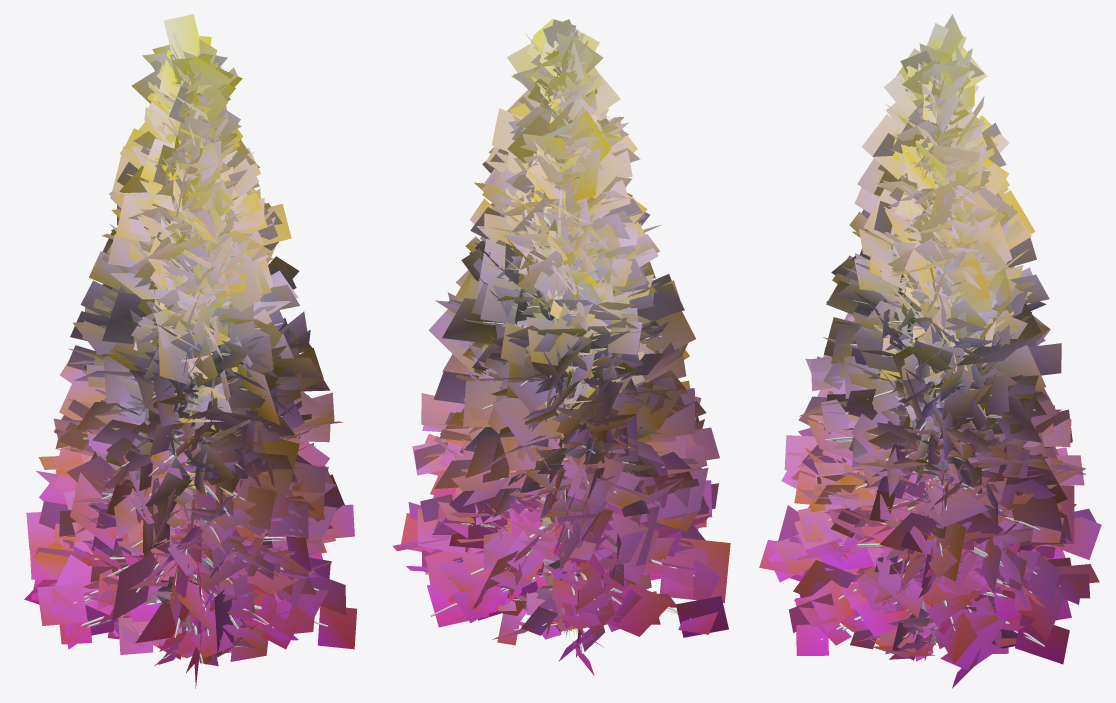
The model's file is real_conifers.glb.
The picture shows the model from 3 angles, left to right: view 1: azimuth 30°, elevation 25°; view 2: azimuth 150°, elevation 25°; view 3: azimuth 270°, elevation 25°; orthographic projection.
Visible parts, largest first — view 1: RealSpruce_A_Leaves, RealSpruce_A_FarLeaves, RealFir_Leaves, RealFir_FarLeaves, RealSpruce_B_FarLeaves, RealSpruce_B_Leaves, RealPineYoung_FarLeaves, RealPineYoung_Leaves, RealSpruce_A_Bark; view 2: RealSpruce_A_FarLeaves, RealSpruce_A_Leaves, RealFir_Leaves, RealFir_FarLeaves, RealSpruce_B_Leaves, RealSpruce_B_FarLeaves, RealPineYoung_Leaves, RealPineYoung_FarLeaves, RealSpruce_A_Bark; view 3: RealSpruce_A_Leaves, RealSpruce_A_FarLeaves, RealFir_Leaves, RealFir_FarLeaves, RealSpruce_B_Leaves, RealSpruce_B_FarLeaves, RealPineYoung_Leaves, RealPineYoung_FarLeaves, RealSpruce_A_Bark.
Boxes of the visible parts, x1,y1,x2,y2 form: RealSpruce_A_Leaves: [24, 45, 356, 672]; RealSpruce_A_FarLeaves: [30, 14, 344, 688]; RealFir_Leaves: [39, 138, 329, 597]; RealFir_FarLeaves: [54, 137, 333, 579]; RealSpruce_B_FarLeaves: [88, 222, 323, 643]; RealSpruce_B_Leaves: [49, 220, 330, 651]; RealPineYoung_FarLeaves: [118, 473, 268, 666]; RealPineYoung_Leaves: [107, 463, 255, 666]; RealSpruce_A_Bark: [61, 78, 327, 663]; RealSpruce_A_FarLeaves: [405, 19, 730, 661]; RealSpruce_A_Leaves: [393, 19, 728, 675]; RealFir_Leaves: [432, 105, 710, 565]; RealFir_FarLeaves: [429, 97, 709, 573]; RealSpruce_B_Leaves: [431, 235, 698, 623]; RealSpruce_B_FarLeaves: [448, 206, 705, 636]; RealPineYoung_Leaves: [497, 434, 660, 651]; RealPineYoung_FarLeaves: [492, 436, 660, 647]; RealSpruce_A_Bark: [425, 120, 694, 653]; RealSpruce_A_Leaves: [759, 38, 1101, 688]; RealSpruce_A_FarLeaves: [778, 14, 1099, 670]; RealFir_Leaves: [791, 125, 1076, 588]; RealFir_FarLeaves: [807, 117, 1074, 585]; RealSpruce_B_Leaves: [794, 270, 1064, 628]; RealSpruce_B_FarLeaves: [799, 254, 1071, 634]; RealPineYoung_Leaves: [850, 479, 1017, 660]; RealPineYoung_FarLeaves: [871, 561, 1018, 661]; RealSpruce_A_Bark: [818, 101, 1060, 646].
Bounding box in the file's own units: 11.91 × 23.59 × 11.57.
